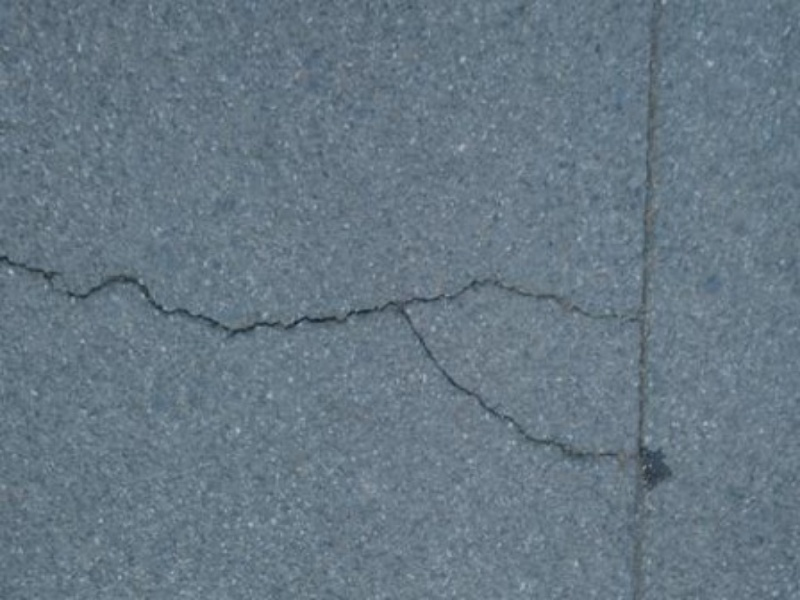crack: (6, 237, 663, 491)
